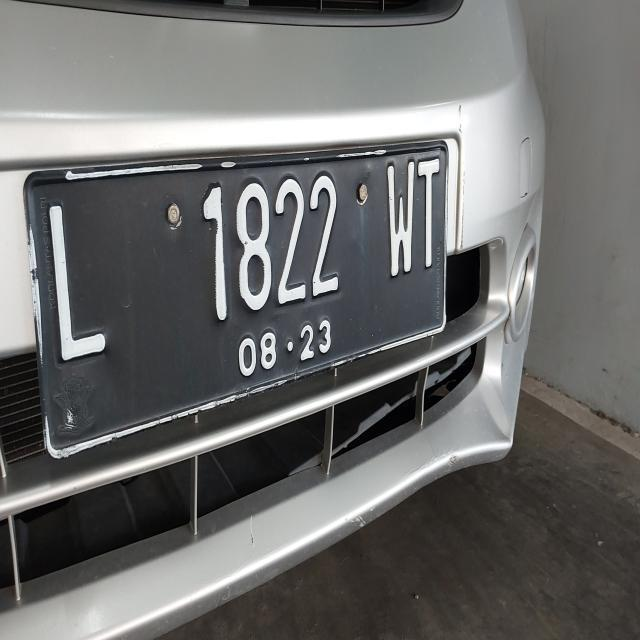1: (191, 172, 229, 336)
2: (307, 170, 344, 302), (272, 174, 308, 306)
8: (231, 175, 275, 314)
L: (35, 198, 117, 380)
T: (417, 157, 442, 273)
W: (381, 157, 416, 287)
